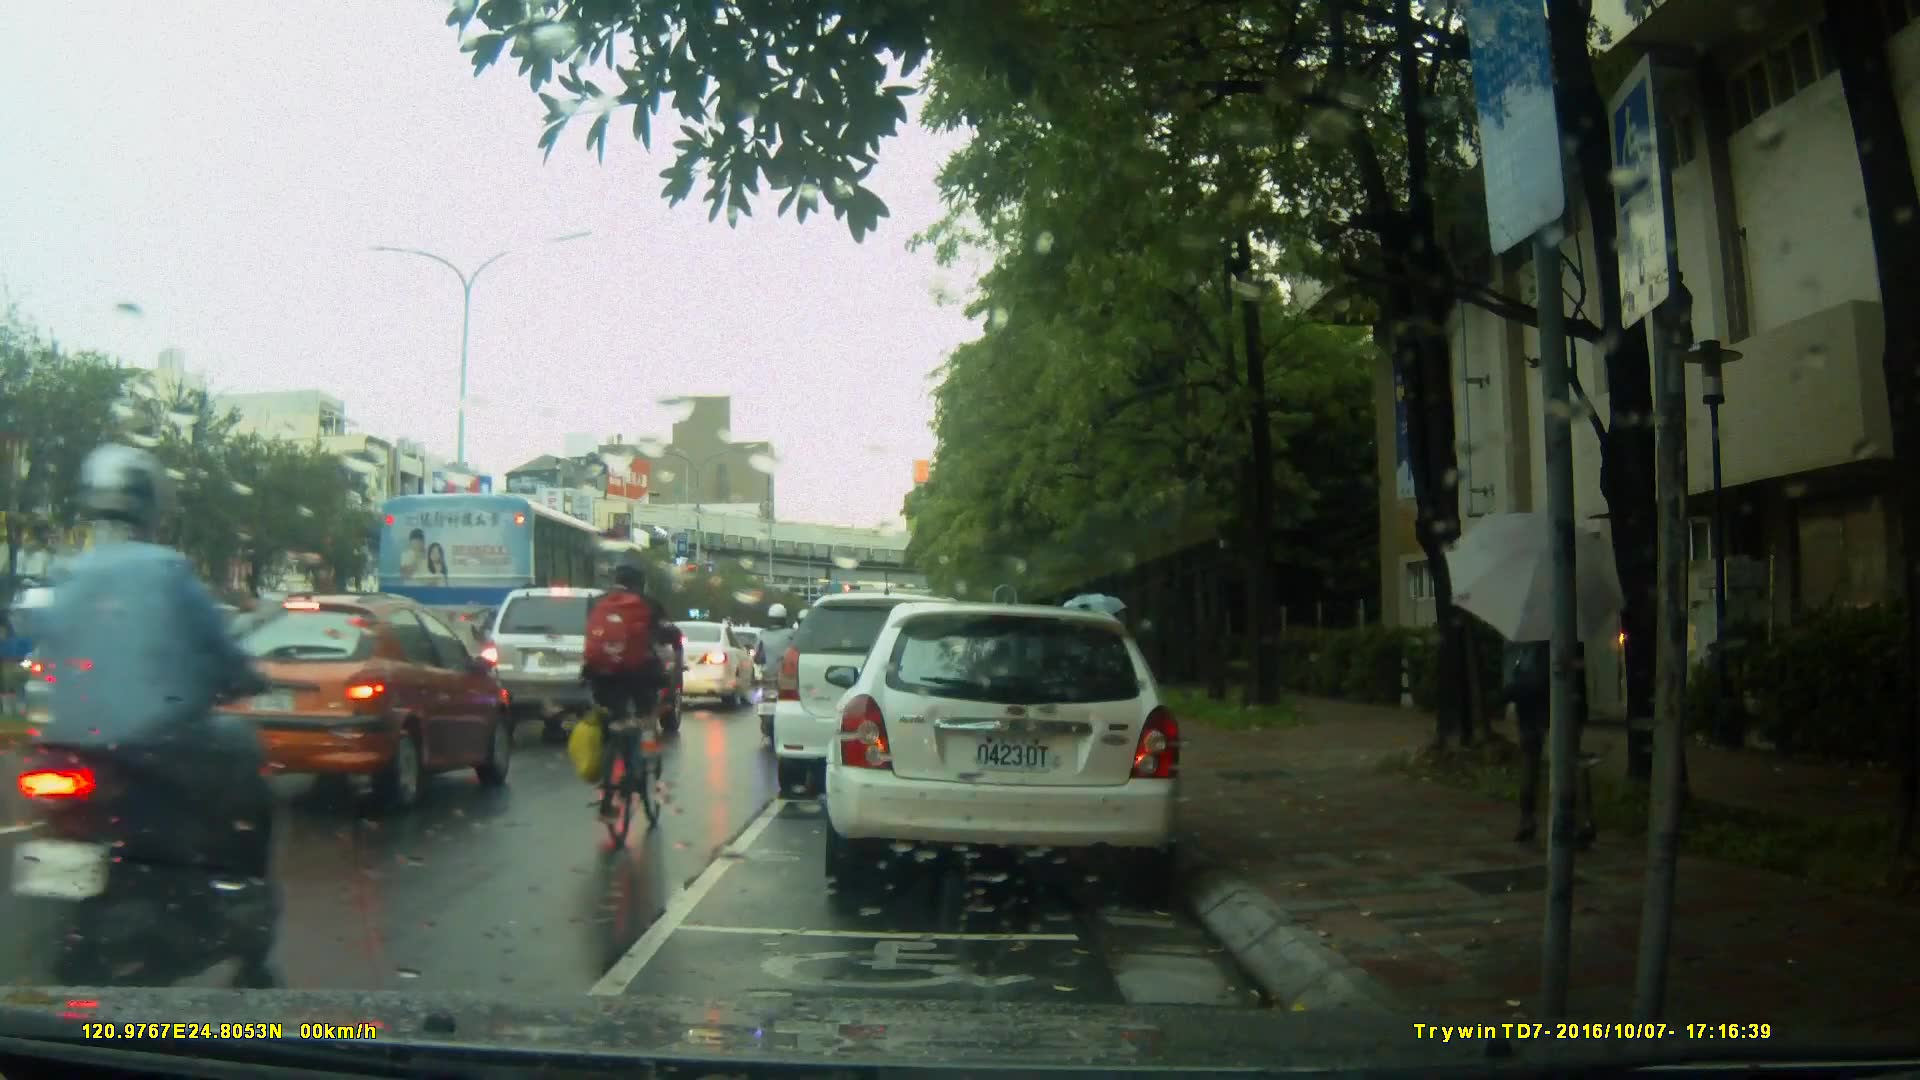pedestrian: (1496, 530, 1625, 861)
rider: (10, 434, 277, 1009), (572, 557, 679, 844), (755, 598, 808, 744)
vehicle: (835, 594, 1194, 898), (166, 592, 513, 822), (364, 487, 659, 720), (776, 590, 1026, 784), (21, 594, 301, 766), (474, 584, 685, 741)
